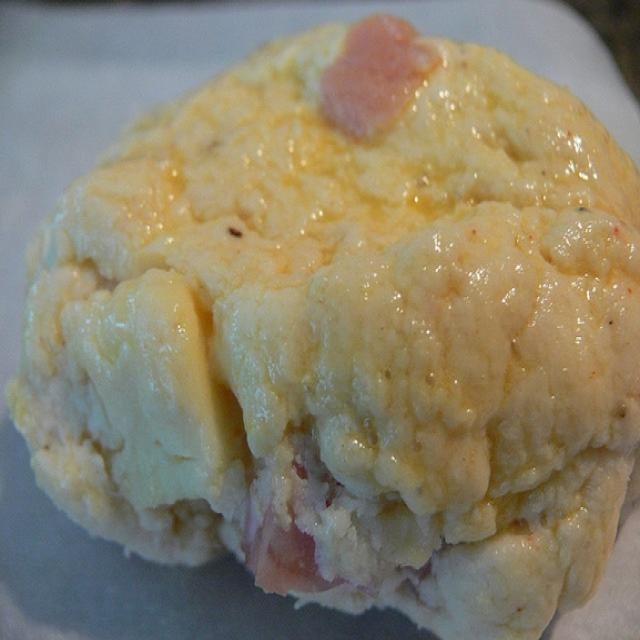面包点心: (21, 28, 636, 624)
